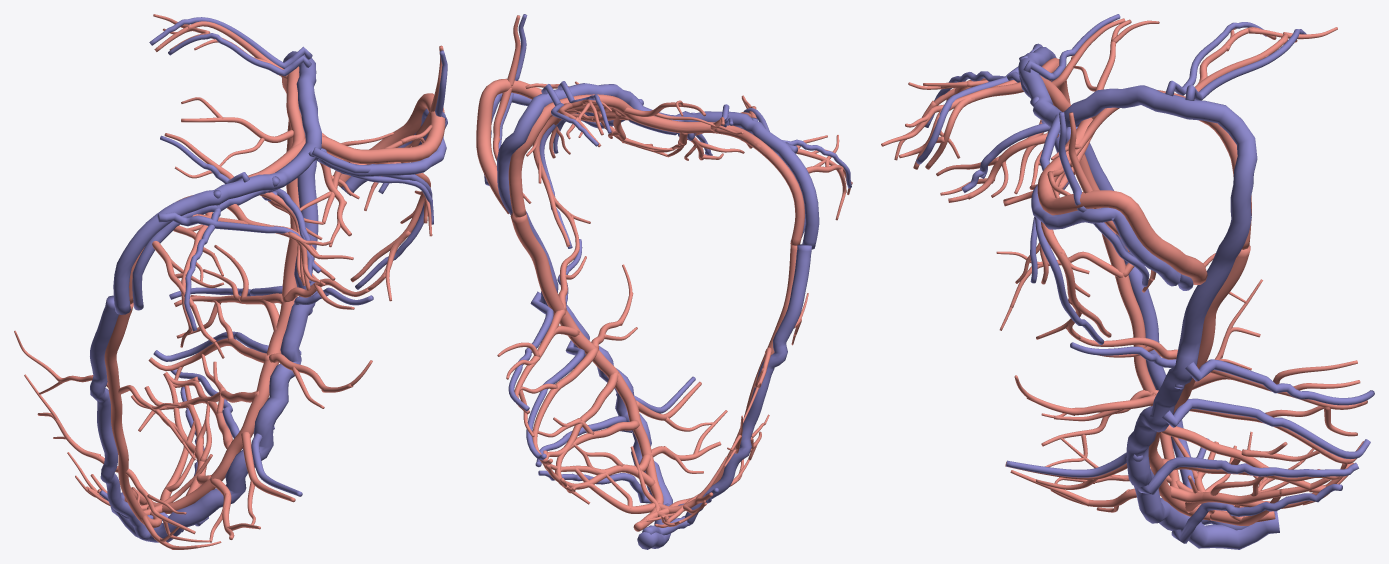
Rendered from vessels_37.glb.
3 views of the same model, side by side, from view 1: azimuth 30°, elevation 25°; view 2: azimuth 150°, elevation 25°; view 3: azimuth 270°, elevation 25° (orthographic). The views are drawn at different scales.
Visible parts, largest first — view 1: Renderer Node; view 2: Renderer Node; view 3: Renderer Node.
Boxes of the visible parts, bbox=[...] form: Renderer Node: bbox=[14, 14, 447, 549]; Renderer Node: bbox=[476, 14, 852, 549]; Renderer Node: bbox=[881, 14, 1374, 549].
Size of the model in its own units: 90.67 by 115 by 91.24.
